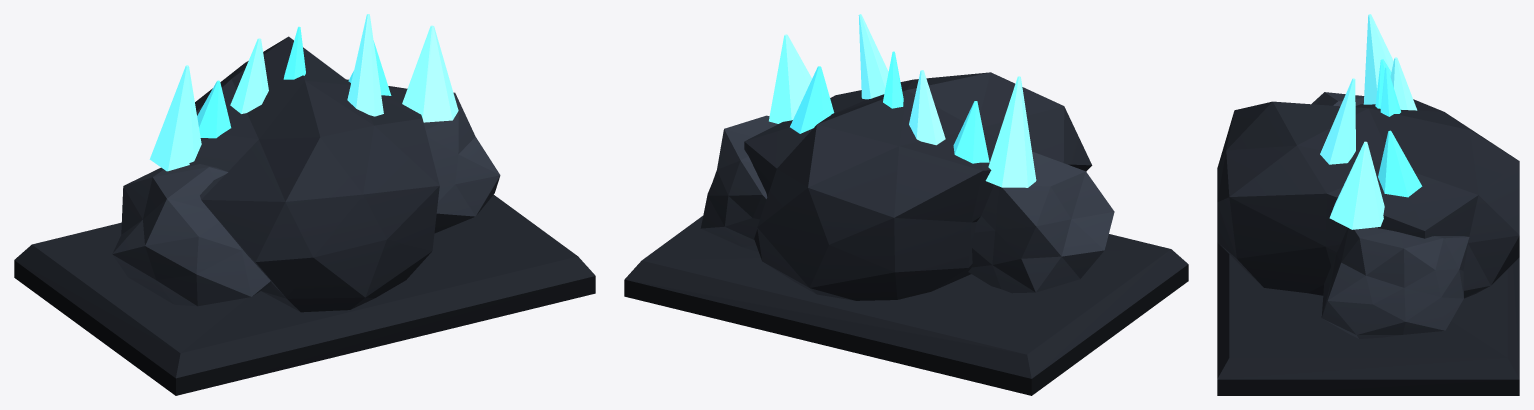
Rendered from crystal-vent-rock.glb.
The picture shows the model from 3 angles, left to right: view 1: azimuth 30°, elevation 25°; view 2: azimuth 150°, elevation 25°; view 3: azimuth 270°, elevation 25°; orthographic projection. The views are drawn at different scales.
Bounding box in the file's own units: 3 × 1.8 × 2.
